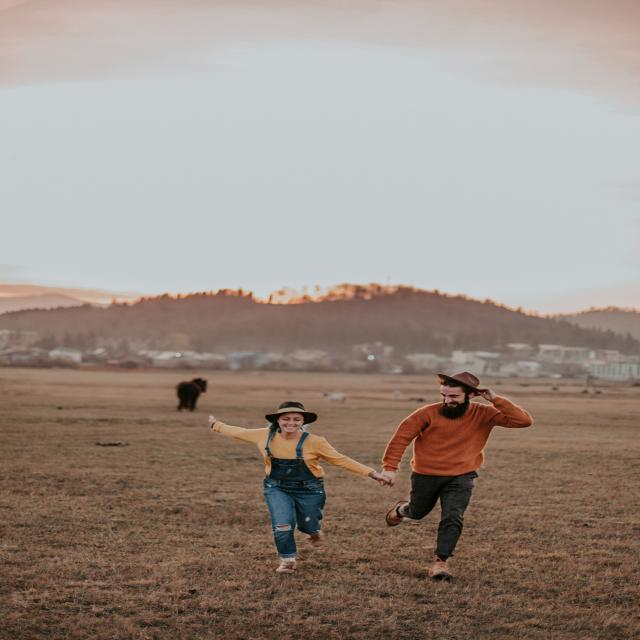adult: (380, 373, 531, 578), (208, 402, 376, 570)
